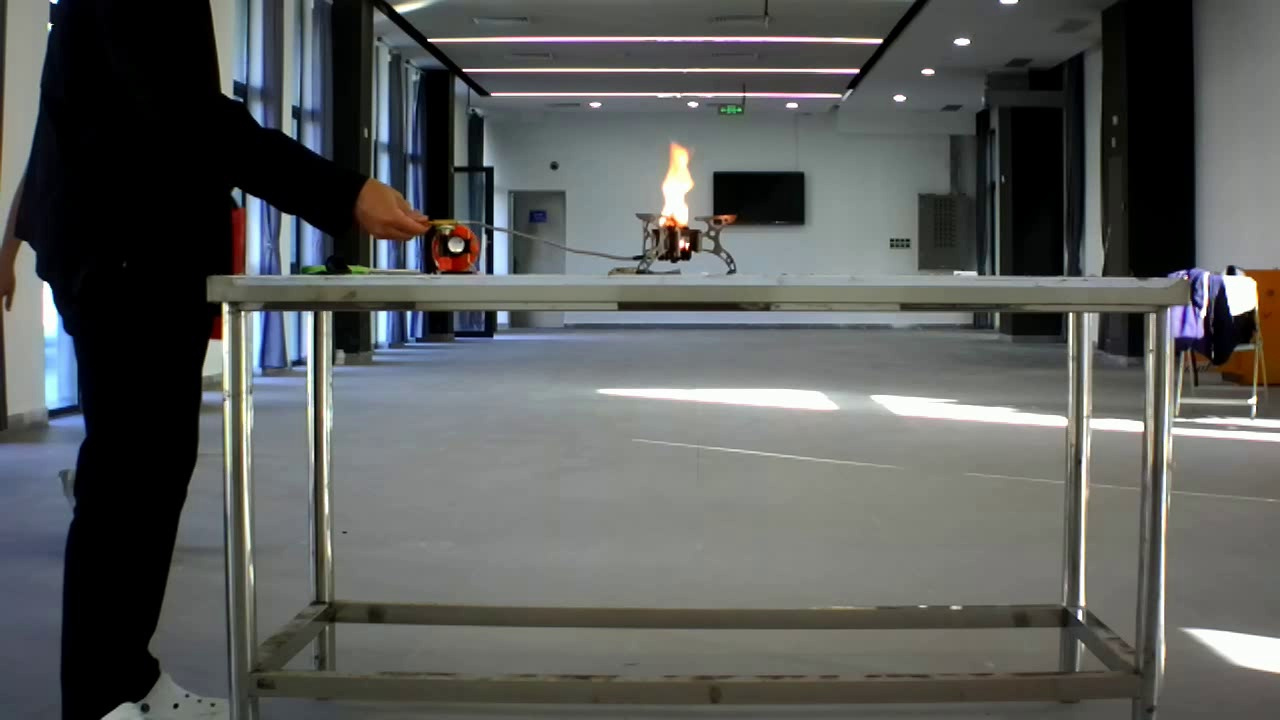Fire: (644, 133, 710, 254)
